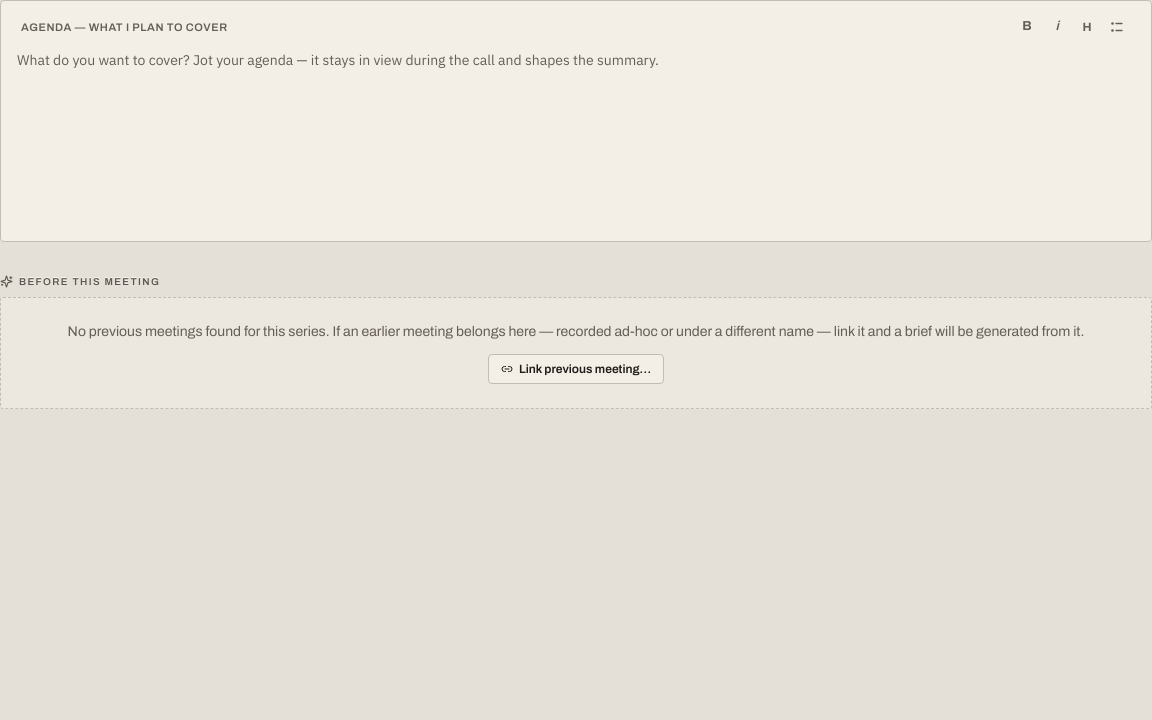
Test case: PrepPanel (specs/0036) › opens the picker, filters by title, and links the picked meeting
Click the button "Link previous meeting…". click: coordinates (576, 369)
box: [488,354,664,384]
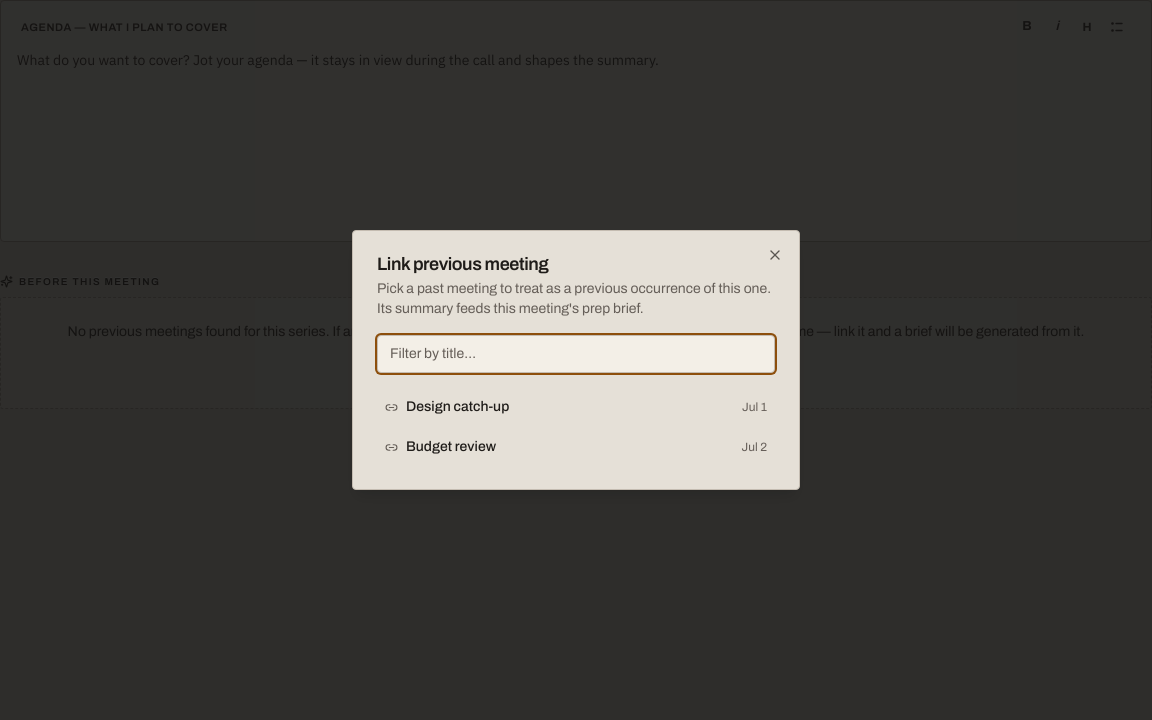
Now the text "Design catch-up" is shown, box [406,399,509,414]
Now the text "Budget review" is shown, box [406,439,496,454]
Type "design" into the field named "filter meetings by title". click: coordinates (576, 354)
box: [377,335,775,373]
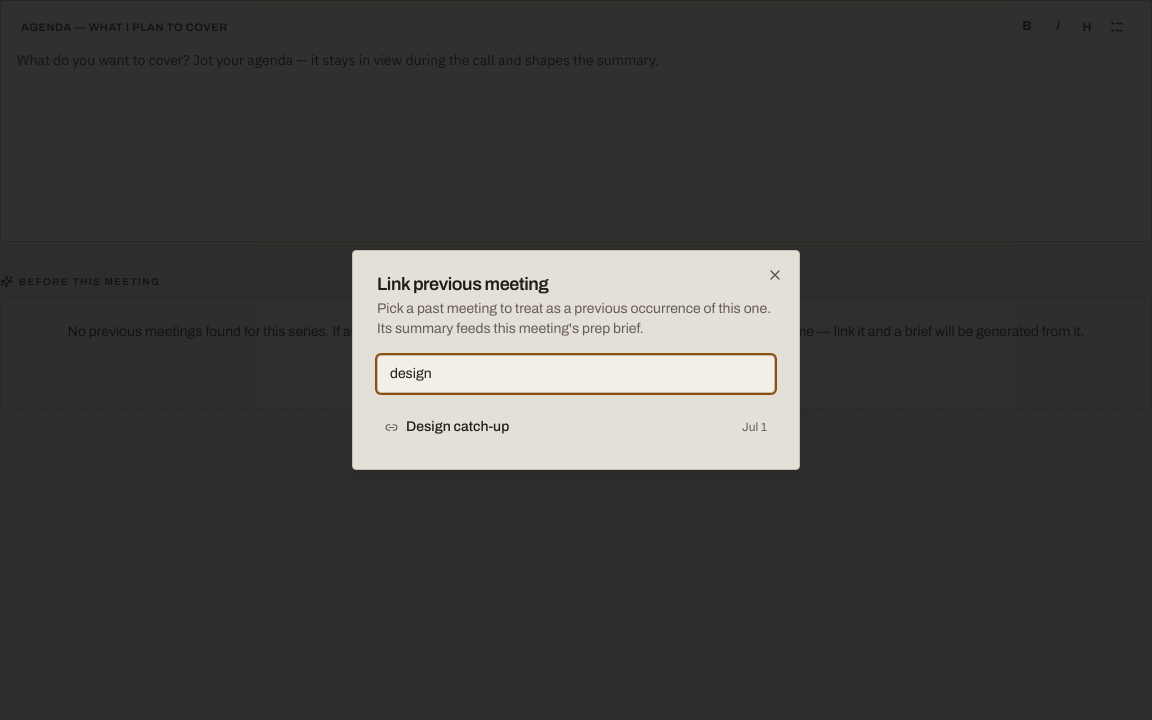
Now the text "Design catch-up" is shown
Now the button "Budget review" is gone
Click the text "Design catch-up". click: coordinates (458, 426)
box: [406,419,509,434]
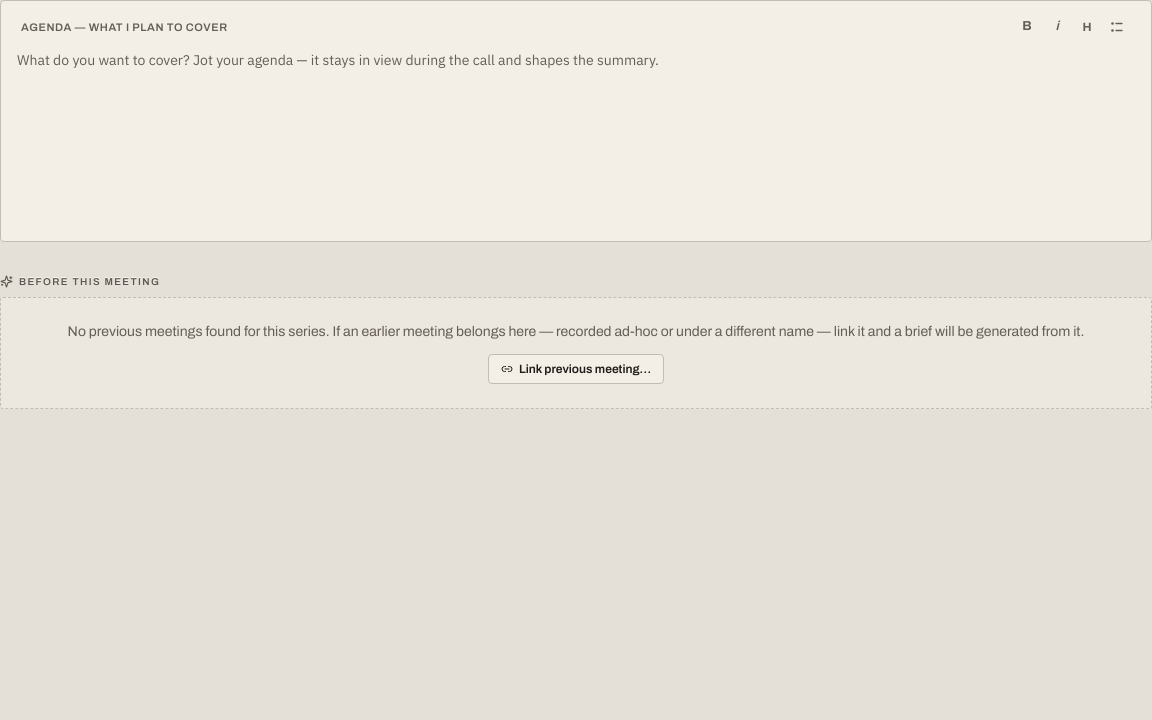
Now the button "Design catch-up" is gone
